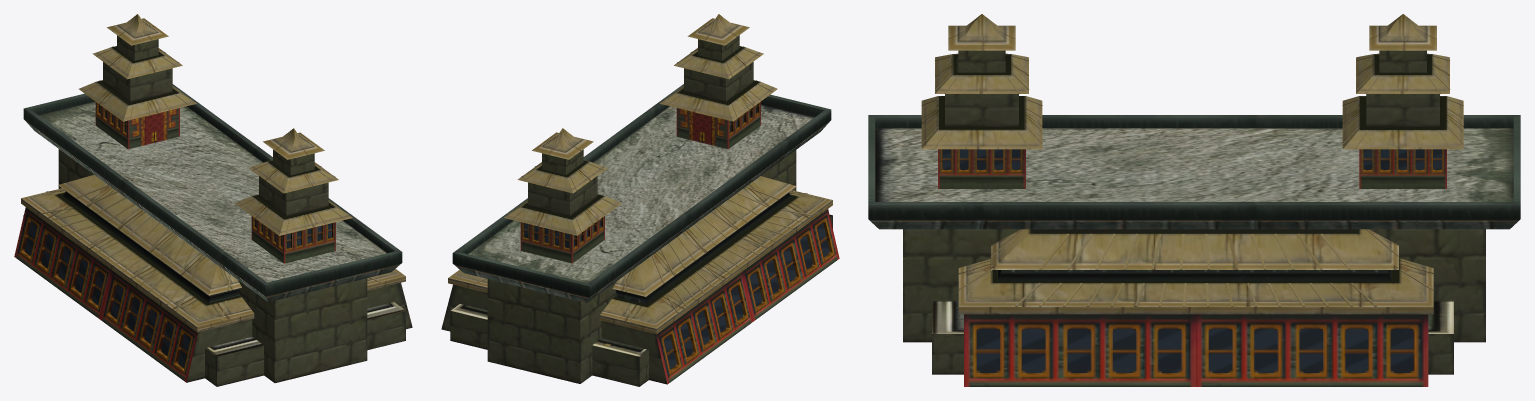
File: l_guardhouse_cad.glb
3 views of the same model, side by side, from view 1: azimuth 30°, elevation 25°; view 2: azimuth 150°, elevation 25°; view 3: azimuth 270°, elevation 25° (orthographic). The views are drawn at different scales.
Parts seen in each view (by area): view 1: Gaurd House; view 2: Gaurd House; view 3: Gaurd House.
Boxes of the visible parts, left/top/right/bottom form: Gaurd House: left=14, top=14, right=412, bottom=386; Gaurd House: left=441, top=14, right=839, bottom=386; Gaurd House: left=868, top=14, right=1520, bottom=386.
Size of the model in its own units: 18.64 by 17.45 by 34.5.
Materials: 1 (1 with a texture image).
